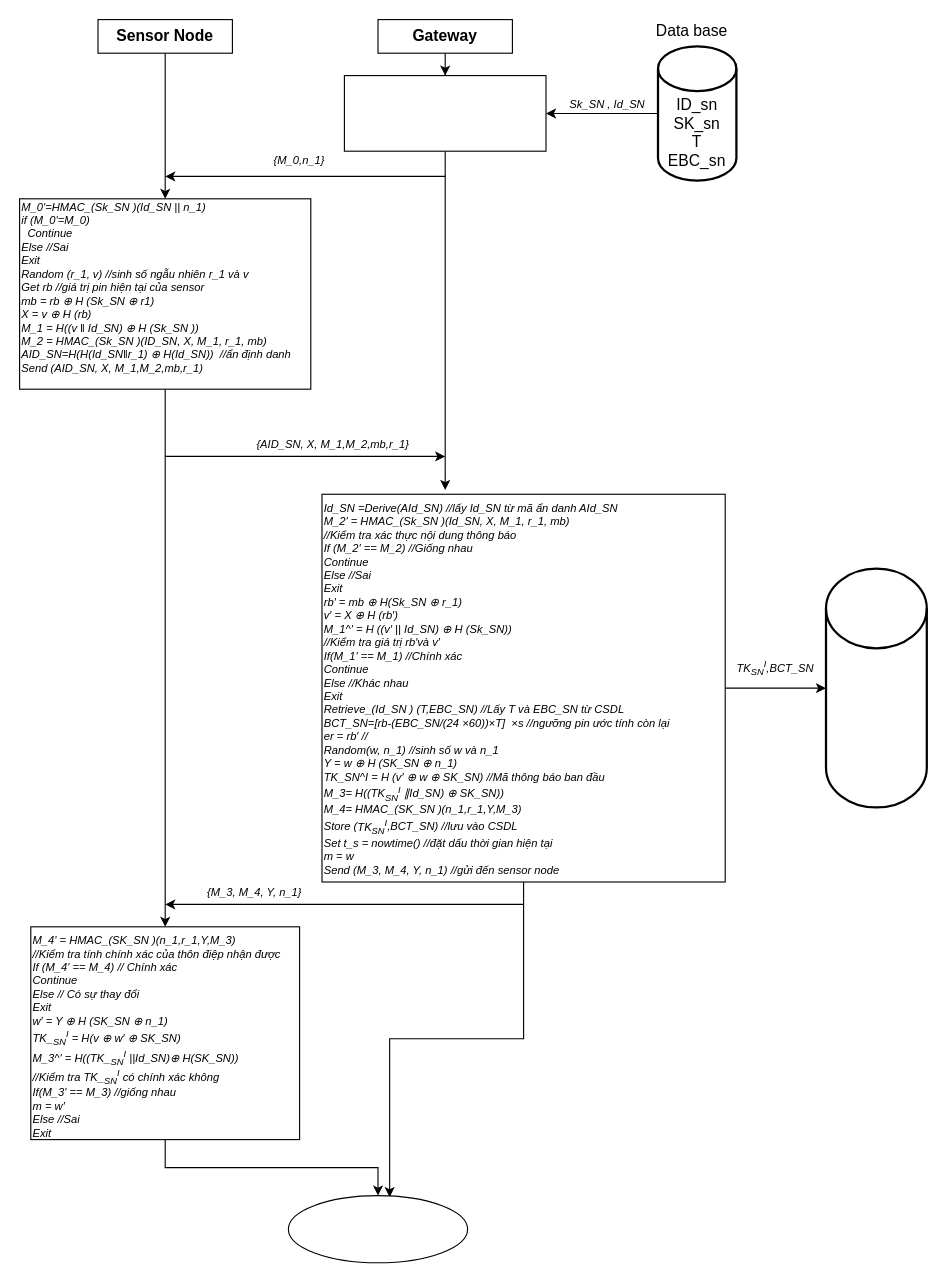
Image size: 948x1282. Some labels were removed from this diagram. Each missing label, with the centre of its shape:
"ID_sn SK_sn T EBC_sn TK SN I BCT_SN" belongs at point 875,687.
"KẾT THÚC" belongs at point 377,1228.
"Random(n_1) M_0 = HMAC_(Sk_SN )(Id_SN ||n_1) Send(M_0,n_1)" belongs at point 444,112.
